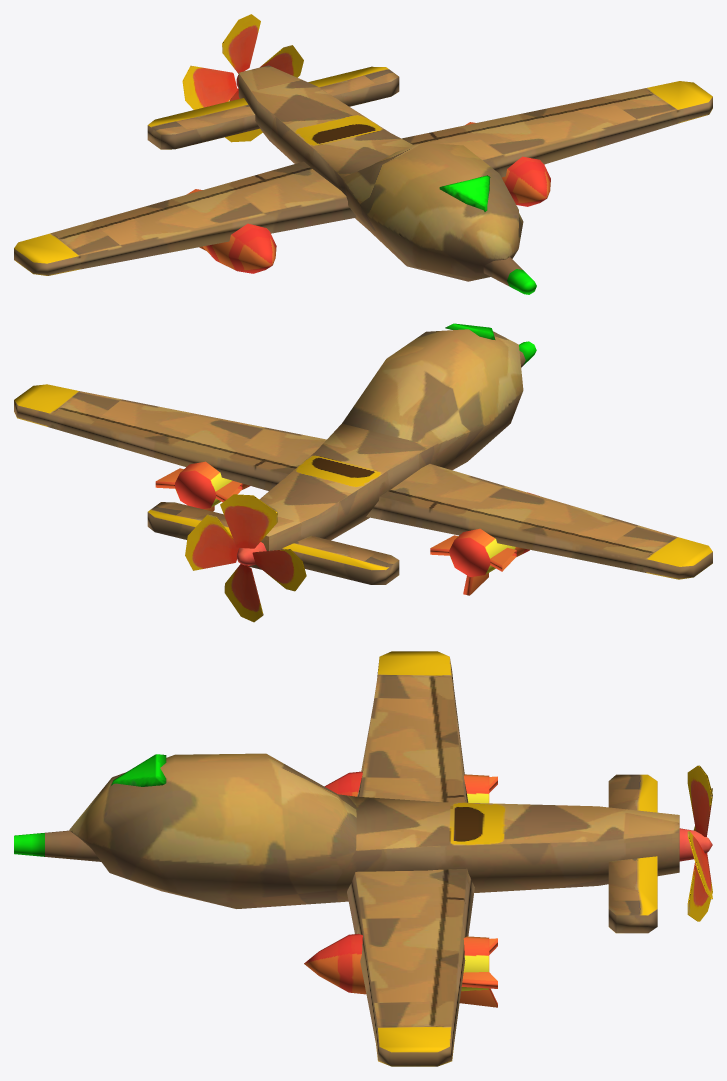
The picture shows the model from 3 angles, top to bottom: view 1: azimuth 30°, elevation 25°; view 2: azimuth 150°, elevation 25°; view 3: azimuth 270°, elevation 25°; orthographic projection. The views are drawn at different scales.
Visible parts, largest first — view 1: UCAVLV1020, UCAVLV10Fans, UCAVMissile (1), UCAVMissile; view 2: UCAVLV1020, UCAVLV10Fans, UCAVMissile (1), UCAVMissile; view 3: UCAVLV1020, UCAVMissile, UCAVLV10Fans, UCAVMissile (1).
Part boxes in pixels (x1,y1,x2,y2): UCAVLV1020: (14,65,712,294); UCAVLV10Fans: (182,14,303,142); UCAVMissile (1): (186,189,276,273); UCAVMissile: (465,122,550,206); UCAVLV1020: (14,323,712,584); UCAVLV10Fans: (185,494,306,622); UCAVMissile (1): (430,492,538,595); UCAVMissile: (155,461,249,511); UCAVLV1020: (14,651,712,1066); UCAVMissile: (304,933,497,1007); UCAVLV10Fans: (687,765,712,921); UCAVMissile (1): (324,771,497,803).
Size of the model in its own units: 53.49 by 10.07 by 39.41.
1 material, 1 textured.
